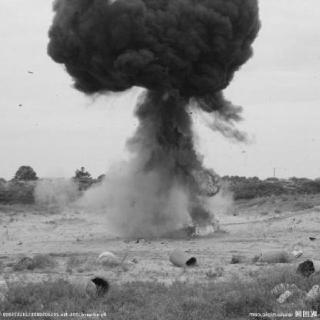Smoke: (90, 169, 162, 233)
